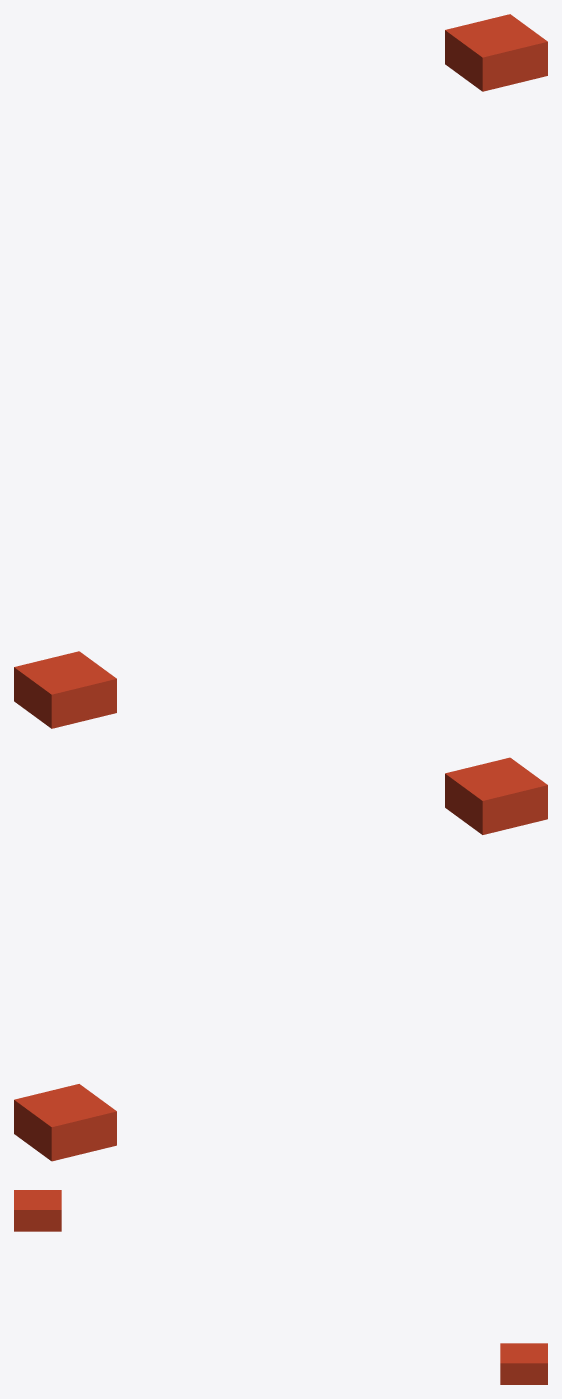
Rendered from 遗迹回声_地刺碰撞与触发.glb.
3 renders of one model, top to bottom at view 1: azimuth 30°, elevation 25°; view 2: azimuth 210°, elevation 25°; view 3: azimuth 270°, elevation 25°, orthographic. The views are drawn at different scales.
Parts seen in each view (by area): view 1: TRIGGER_Trap_1, TRIGGER_Trap_2; view 2: TRIGGER_Trap_1, TRIGGER_Trap_2; view 3: TRIGGER_Trap_1, TRIGGER_Trap_2.
Part boxes in pixels (x1,y1,x2,y2): TRIGGER_Trap_1: (445, 14, 547, 91); TRIGGER_Trap_2: (14, 651, 116, 728); TRIGGER_Trap_1: (14, 1084, 116, 1161); TRIGGER_Trap_2: (445, 757, 547, 834); TRIGGER_Trap_1: (500, 1343, 547, 1384); TRIGGER_Trap_2: (14, 1190, 61, 1231).
Size of what is drawn, in the model's own units: 29.7 by 6.1 by 24.7.
